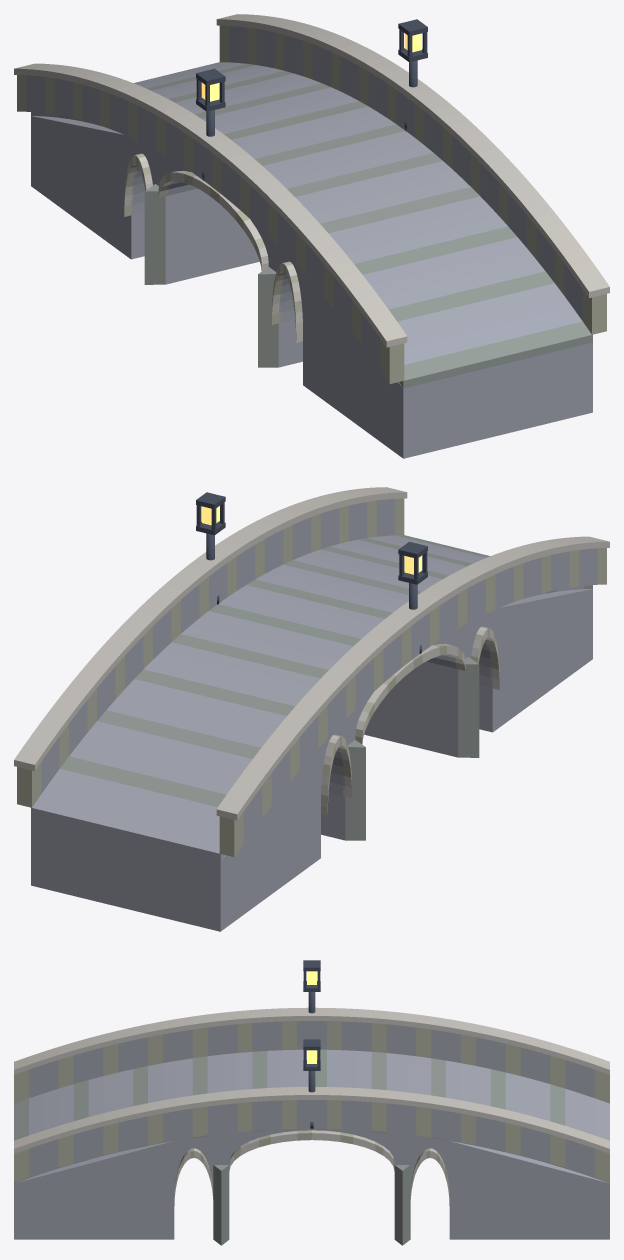
The model's file is bridge_stone.glb.
3 views of the same model, one above another, from view 1: azimuth 30°, elevation 25°; view 2: azimuth 150°, elevation 25°; view 3: azimuth 270°, elevation 25° (orthographic). The views are drawn at different scales.
Visible parts, largest first — view 1: Bridge_pier_or_abutment, Bridge_pier_or_abutment.003, Bridge_pier_or_abutment.002, Bridge_road_slab, Bridge_road_slab.001, Bridge_road_slab.002, Bridge_road_slab.003, Bridge_road_slab.004, Bridge_road_slab.005, Bridge_road_slab.006, Bridge_road_slab.007, Bridge_road_slab.008 (+27 smaller); view 2: Bridge_pier_or_abutment.003, Bridge_pier_or_abutment, Bridge_pier_or_abutment.001, Bridge_road_slab.039, Bridge_road_slab.038, Bridge_road_slab.037, Bridge_road_slab.036, Bridge_road_slab.035, Bridge_road_slab.034, Bridge_road_slab.033, Bridge_road_slab.032, Bridge_road_slab.031 (+27 smaller); view 3: Bridge_pier_or_abutment, Bridge_pier_or_abutment.003, Bridge_triangular_cutwater.001, Bridge_triangular_cutwater.003, Bridge_road_slab.017, Bridge_road_slab.022, Bridge_road_slab.014, Bridge_road_slab.013, Bridge_road_slab.016, Bridge_road_slab.023, Bridge_road_slab.025, Bridge_road_slab.026 (+110 smaller).
Part boxes in pixels (<box>): Bridge_pier_or_abutment: <box>303,273,592,458</box>; Bridge_pier_or_abutment.003: <box>31,116,144,259</box>; Bridge_pier_or_abutment.002: <box>155,150,259,284</box>; Bridge_road_slab: <box>399,321,592,388</box>; Bridge_road_slab.001: <box>404,308,582,364</box>; Bridge_road_slab.002: <box>404,296,573,349</box>; Bridge_road_slab.003: <box>397,283,563,334</box>; Bridge_road_slab.004: <box>388,271,554,321</box>; Bridge_road_slab.005: <box>380,259,544,309</box>; Bridge_road_slab.006: <box>371,248,535,297</box>; Bridge_road_slab.007: <box>363,237,526,285</box>; Bridge_road_slab.008: <box>354,226,516,274</box>; Bridge_pier_or_abutment.003: <box>31,746,320,931</box>; Bridge_pier_or_abutment: <box>479,589,592,732</box>; Bridge_pier_or_abutment.001: <box>364,623,468,757</box>; Bridge_road_slab.039: <box>31,794,224,861</box>; Bridge_road_slab.038: <box>41,781,219,837</box>; Bridge_road_slab.037: <box>50,769,219,822</box>; Bridge_road_slab.036: <box>60,756,226,807</box>; Bridge_road_slab.035: <box>69,744,235,794</box>; Bridge_road_slab.034: <box>79,732,243,782</box>; Bridge_road_slab.033: <box>88,721,252,770</box>; Bridge_road_slab.032: <box>97,710,260,758</box>; Bridge_road_slab.031: <box>107,699,269,747</box>; Bridge_pier_or_abutment: <box>14,1141,174,1239</box>; Bridge_pier_or_abutment.003: <box>449,1141,609,1239</box>; Bridge_triangular_cutwater.001: <box>213,1165,229,1245</box>; Bridge_triangular_cutwater.003: <box>394,1165,410,1245</box>; Bridge_road_slab.017: <box>267,1050,282,1130</box>; Bridge_road_slab.022: <box>341,1050,356,1130</box>; Bridge_road_slab.014: <box>222,1053,237,1134</box>; Bridge_road_slab.013: <box>207,1054,222,1135</box>; Bridge_road_slab.016: <box>252,1051,267,1131</box>; Bridge_road_slab.023: <box>356,1051,371,1131</box>; Bridge_road_slab.025: <box>386,1053,401,1134</box>; Bridge_road_slab.026: <box>401,1054,416,1135</box>.
Size of the model in its own units: 4.5 by 4.8 by 13.
